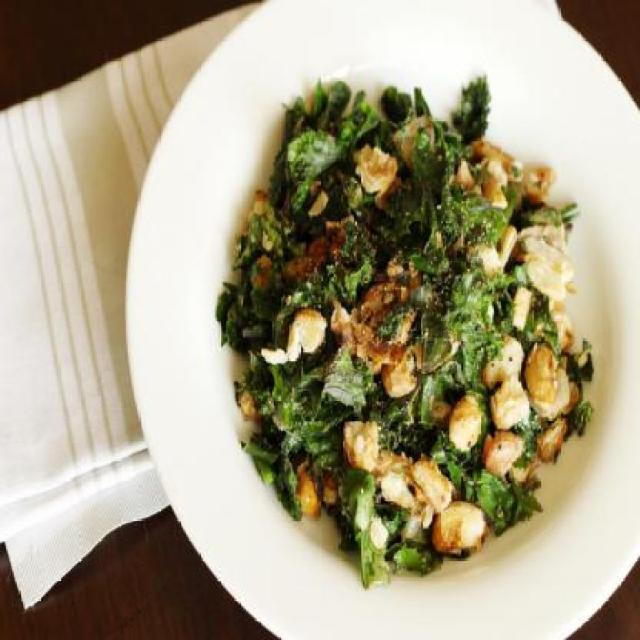Salad: (213, 61, 598, 594)
